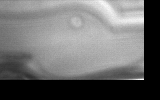cell: (66, 13, 84, 31)
